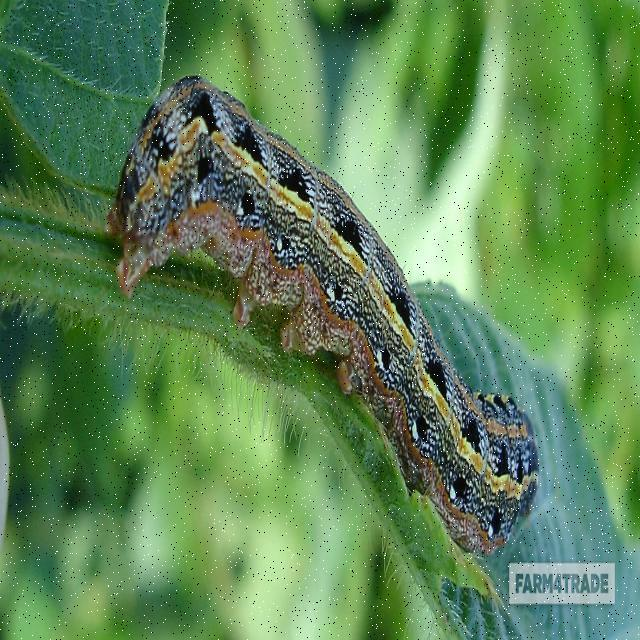army worm: (104, 52, 555, 555)
